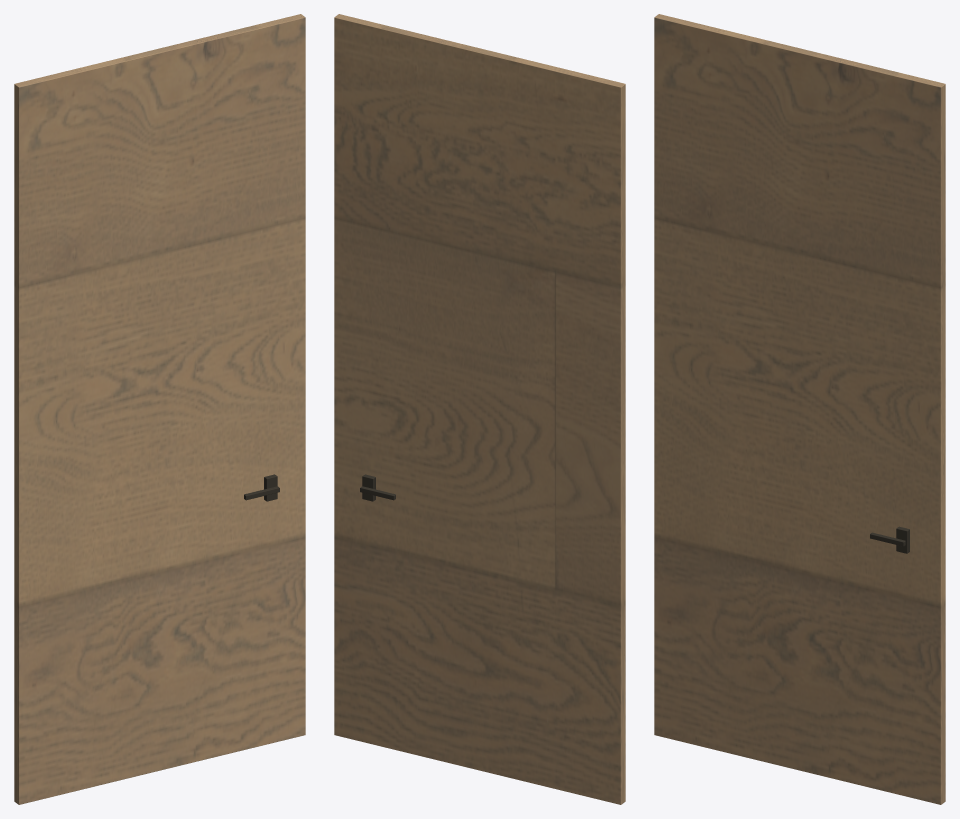
File: bathroom_door_leaf.glb
3 renders of one model, left to right at view 1: azimuth 30°, elevation 25°; view 2: azimuth 150°, elevation 25°; view 3: azimuth 330°, elevation 25°, orthographic.
Parts seen in each view (by area): view 1: bathroom_door_panel; view 2: bathroom_door_panel; view 3: bathroom_door_panel.
Boxes of the visible parts, <box> form: bathroom_door_panel: <box>14,14,305,804</box>; bathroom_door_panel: <box>334,14,625,804</box>; bathroom_door_panel: <box>654,14,945,804</box>.
Bounding box in the file's own units: 1.18 × 2.82 × 0.116.
Materials: 2 (1 with a texture image).
